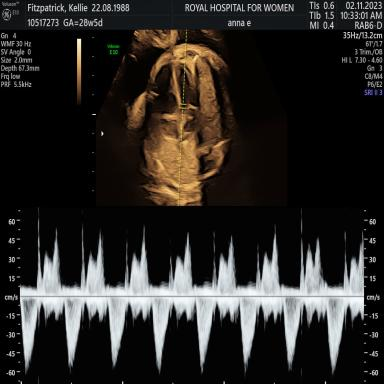Ultrasound-Waves: (25, 210, 362, 384)
